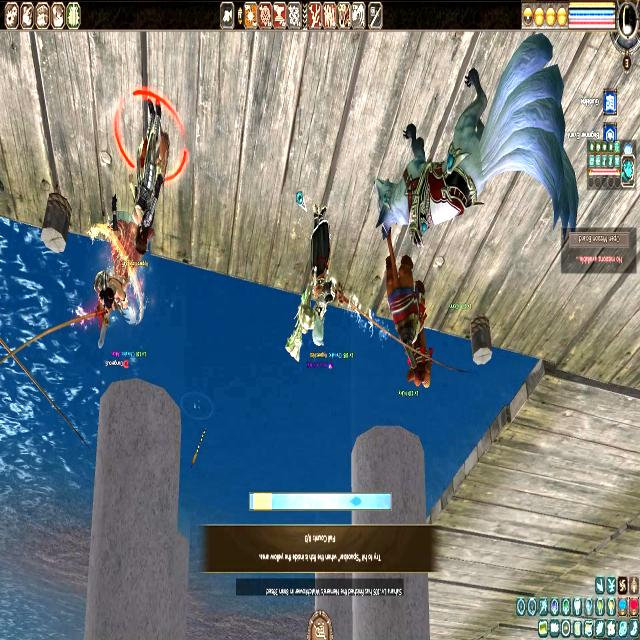fishes: (349, 496, 362, 507)
